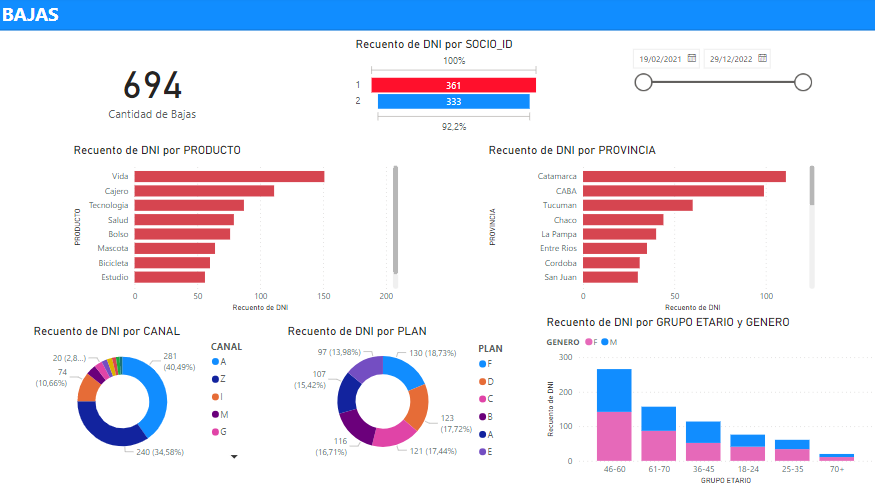

The dashboard page shown, as its layout file describes it:
{"tool":"powerbi","page":{"name":"Baja","canvas":[1280,720],"ordinal":2},"visuals":[{"type":"card","fields":{"Values":["CountNonNull(BAJA.DNI)"]},"box":[10.1,0,270.4,129.3],"z":0},{"type":"funnel","fields":{"Y":["CountNonNull(BAJA.DNI)"],"Category":["BAJA.SOCIO_ID"]},"box":[476.6,13,275,142.6],"z":1},{"type":"slicer","fields":{"Values":["BAJA.FECHA_BAJA"]},"box":[901.4,20.2,279.4,89.3],"z":2},{"type":"clusteredBarChart","fields":{"Y":["CountNonNull(BAJA.DNI)"],"Category":["BAJA.PRODUCTO"]},"box":[136.8,155.5,478.1,247.7],"z":3},{"type":"clusteredBarChart","fields":{"Y":["CountNonNull(BAJA.DNI)"],"Category":["BAJA.PROVINCIA"]},"box":[801.3,169.7,478.7,248.6],"z":4},{"type":"columnChart","fields":{"Y":["CountNonNull(BAJA.DNI)"],"Series":["BAJA.GENERO"],"Category":["VENTA.GRUPO ETARIO"]},"box":[740.2,433.4,479.5,249.1],"z":5},{"type":"donutChart","fields":{"Category":["VENTA.PLAN"],"Y":["CountNonNull(BAJA.DNI)"]},"box":[380.2,470.9,270.7,151.2],"z":6},{"type":"donutChart","fields":{"Y":["CountNonNull(BAJA.DNI)"],"Category":["VENTA.CANAL"]},"box":[51.8,470.9,270.7,151.2],"z":7}]}

Visuals, with their boxes in screenshot pixels (x1, y1, x2, y2), scaled from the page's 1280x720 canvas onto the 875x492 screenshot:
card - CountNonNull(BAJA.DNI): region(7, 0, 192, 88)
funnel - CountNonNull(BAJA.DNI) x BAJA.SOCIO_ID: region(326, 9, 514, 106)
slicer - BAJA.FECHA_BAJA: region(616, 14, 807, 75)
clusteredBarChart - CountNonNull(BAJA.DNI) x BAJA.PRODUCTO: region(94, 106, 420, 276)
clusteredBarChart - CountNonNull(BAJA.DNI) x BAJA.PROVINCIA: region(548, 116, 874, 286)
columnChart - CountNonNull(BAJA.DNI) x BAJA.GENERO: region(506, 296, 834, 466)
donutChart - VENTA.PLAN x CountNonNull(BAJA.DNI): region(260, 322, 445, 425)
donutChart - CountNonNull(BAJA.DNI) x VENTA.CANAL: region(35, 322, 220, 425)
